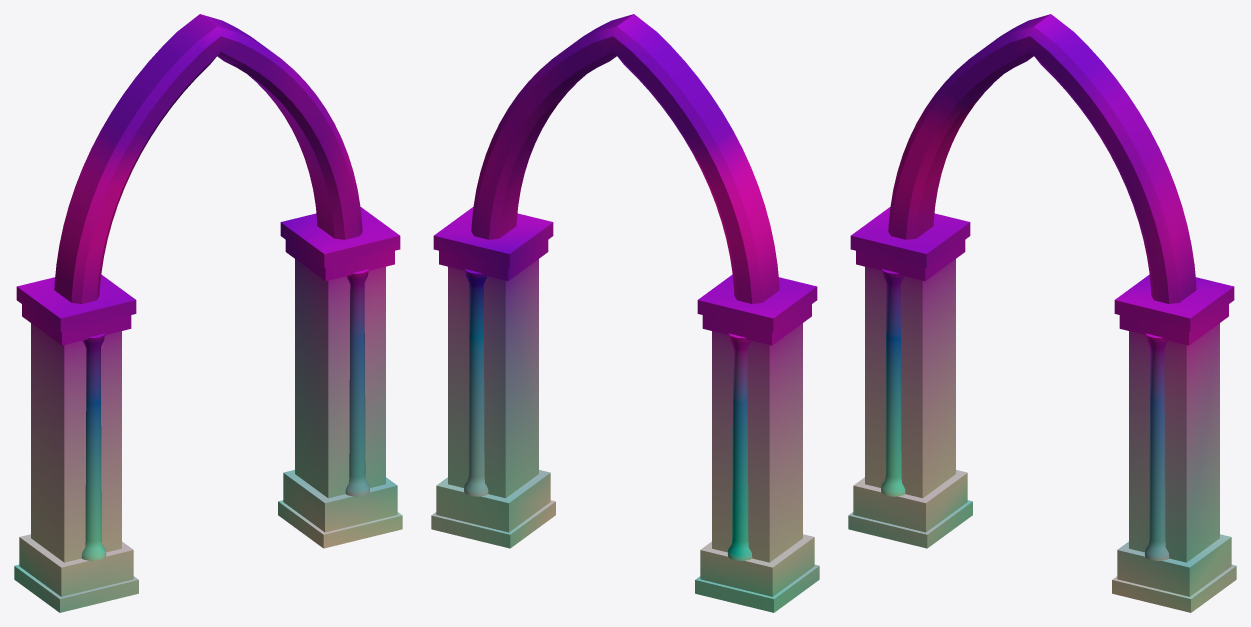
The model's file is fog_gate_frame.glb.
The picture shows the model from 3 angles, left to right: view 1: azimuth 30°, elevation 25°; view 2: azimuth 150°, elevation 25°; view 3: azimuth 330°, elevation 25°; orthographic projection.
Visible parts, largest first — view 1: fog_pier.001, fog_pier, fog_arch, colonnette.002, colonnette; view 2: fog_pier.001, fog_pier, fog_arch, colonnette.003, colonnette.001; view 3: fog_pier, fog_pier.001, fog_arch, colonnette, colonnette.002.
Part boxes in pixels (bbox=[...]): fog_pier.001: bbox=[278, 207, 402, 548]; fog_pier: bbox=[14, 274, 138, 612]; fog_arch: bbox=[54, 14, 362, 303]; colonnette.002: bbox=[345, 269, 369, 496]; colonnette: bbox=[81, 333, 106, 560]; fog_pier.001: bbox=[431, 207, 555, 548]; fog_pier: bbox=[695, 274, 819, 612]; fog_arch: bbox=[471, 14, 779, 303]; colonnette.003: bbox=[464, 269, 488, 496]; colonnette.001: bbox=[727, 333, 752, 560]; fog_pier: bbox=[848, 207, 972, 548]; fog_pier.001: bbox=[1112, 274, 1236, 612]; fog_arch: bbox=[888, 14, 1196, 303]; colonnette: bbox=[881, 269, 905, 496]; colonnette.002: bbox=[1144, 333, 1169, 560].
Bounding box in the file's own units: 4.16 × 6.19 × 0.965.
